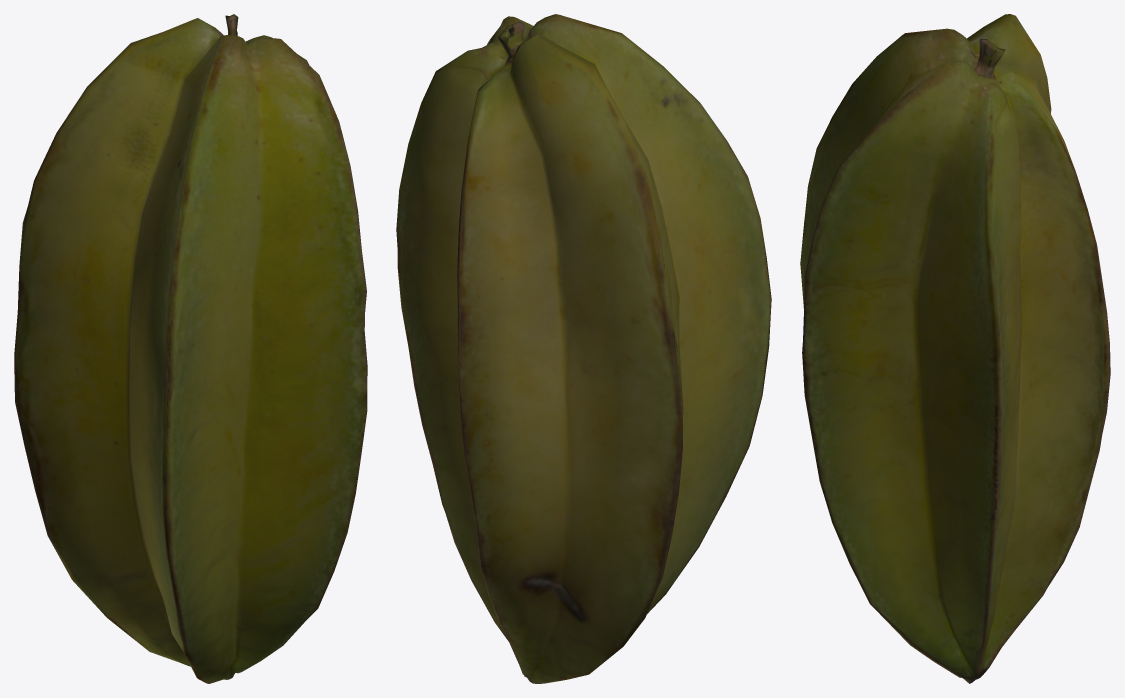
File: starFruit_1.fbx
The picture shows the model from 3 angles, left to right: view 1: azimuth 30°, elevation 25°; view 2: azimuth 150°, elevation 25°; view 3: azimuth 270°, elevation 25°; orthographic projection. The views are drawn at different scales.
Visible parts, largest first — view 1: Star Fruit; view 2: Star Fruit; view 3: Star Fruit.
Boxes of the visible parts, x1=… form: Star Fruit: x1=14, y1=14, x2=367, y2=683; Star Fruit: x1=396, y1=14, x2=771, y2=683; Star Fruit: x1=800, y1=14, x2=1110, y2=683.
Bounding box in the file's own units: 5.57 × 11.48 × 4.99.
Materials: 1 (1 with a texture image).
